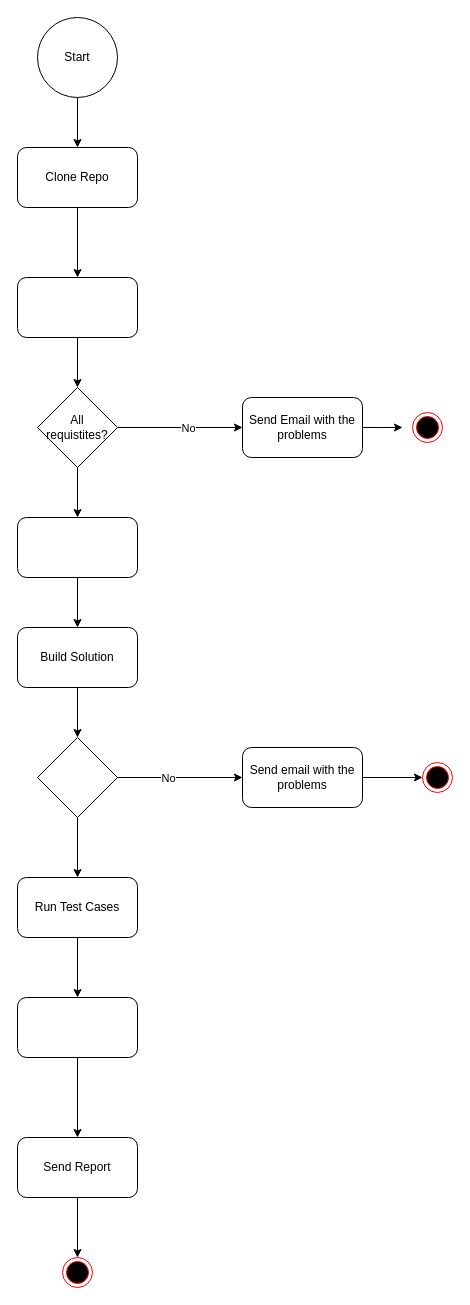
The diagram is 470 pixels wide and 1305 high, and some of its shapes have lost their labels. The shapes that lost their labels are listed below. From the top down, each one's box as (x1, y1, x2, y2) in pixels, then its label:
(16, 276, 138, 338): Validate Requisites
(16, 516, 138, 578): Compleate .csproj
(36, 736, 118, 818): Problems?
(16, 996, 138, 1058): Generate MVT report
